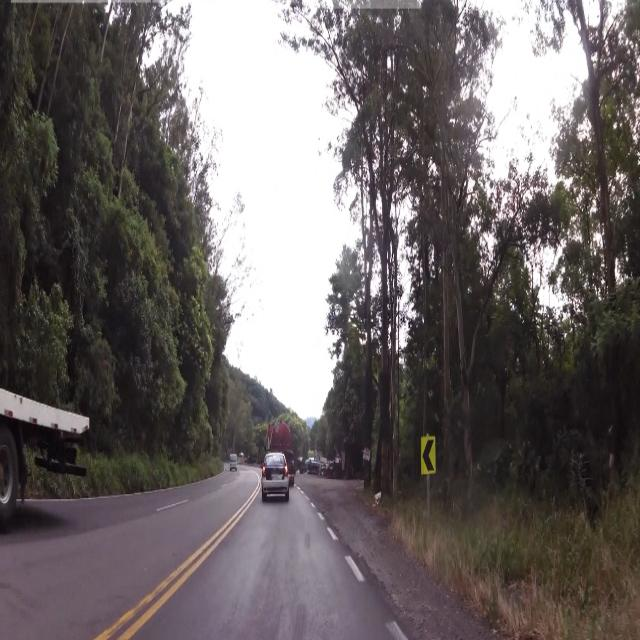Del: (419, 434, 436, 476)
